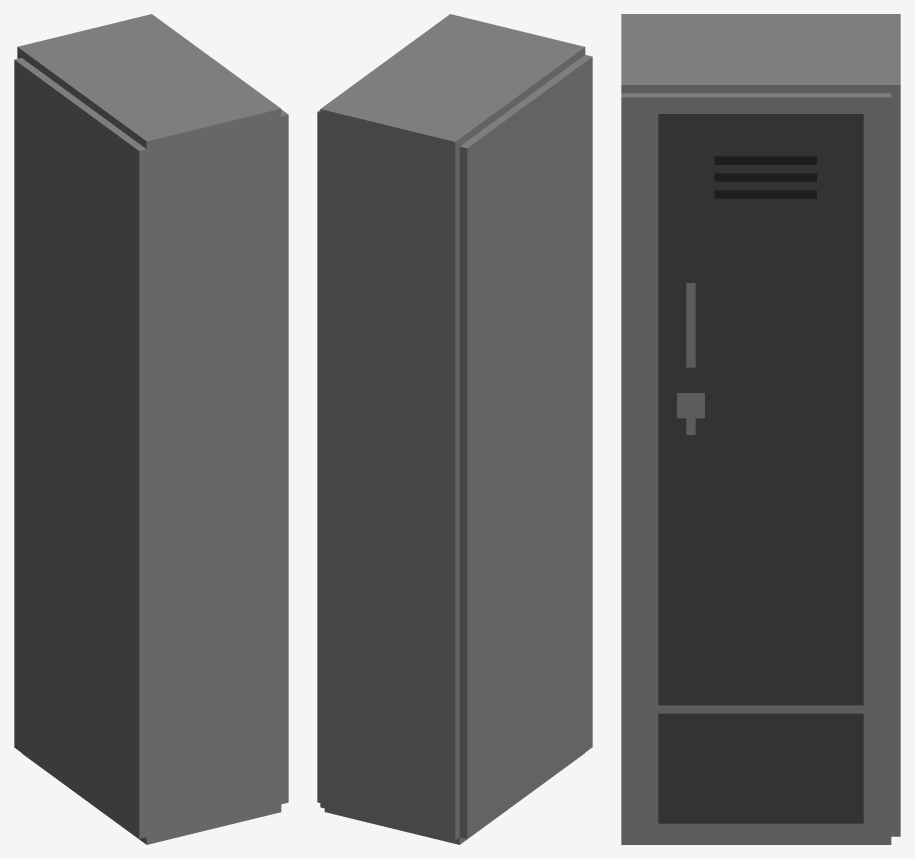
File: SchoolPack-56-locker.obj
The picture shows the model from 3 angles, left to right: view 1: azimuth 30°, elevation 25°; view 2: azimuth 150°, elevation 25°; view 3: azimuth 270°, elevation 25°; orthographic projection. The views are drawn at different scales.
Visible parts, largest first — view 1: locker; view 2: locker; view 3: locker.
Part boxes in pixels (x1,y1,x2,y2): locker: (14,14,288,844); locker: (317,14,592,844); locker: (621,14,900,844).
Size of the model in its own units: 2 by 9 by 3.
Materials: 1 (1 with a texture image).
